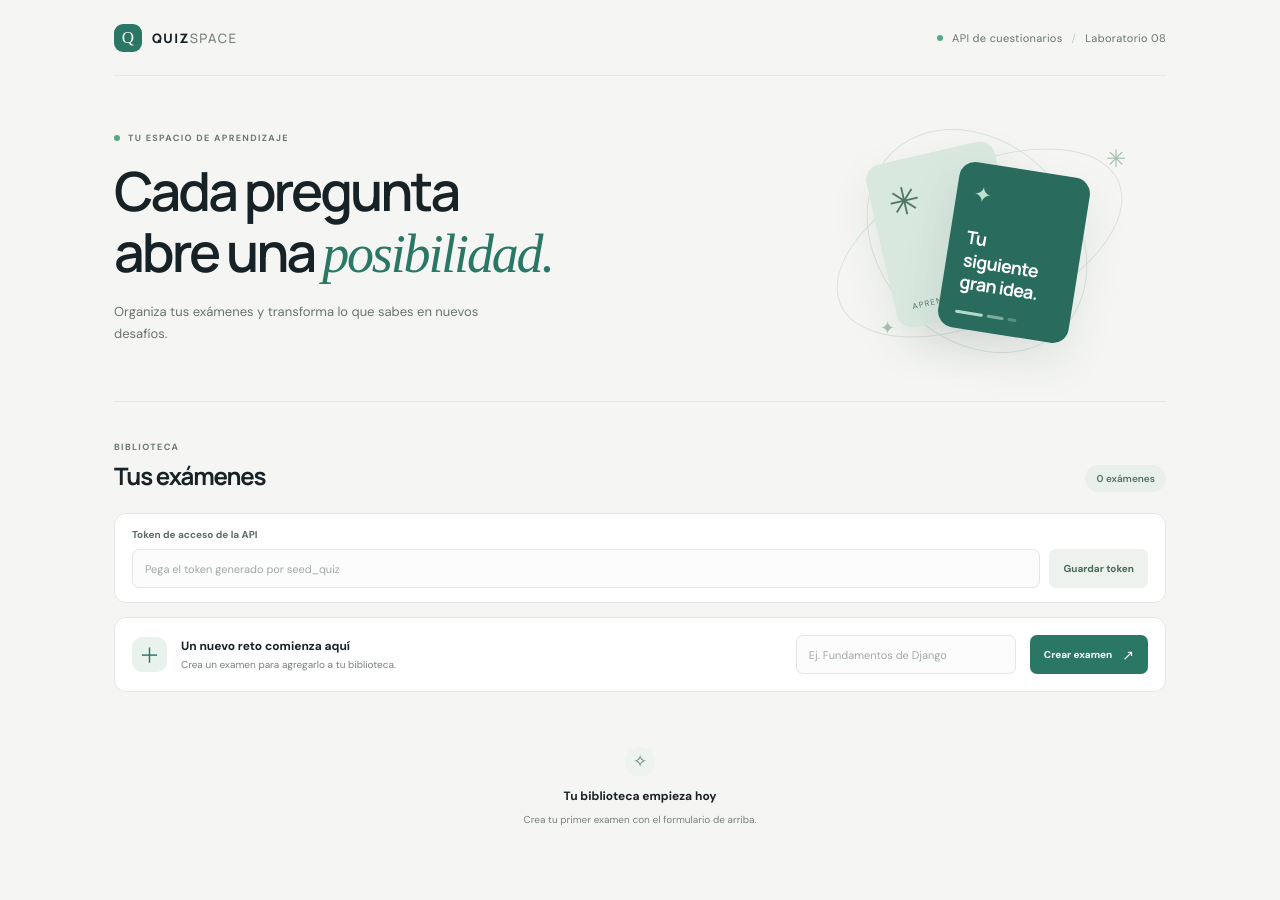
Test: ExamManager › shows the API validation message for an empty title
This screenshot has width=1280, height=900.
Expected: the text "Tu biblioteca empieza hoy" is shown, [564, 788, 716, 804]
Click the button "Crear examen ↗" at (1089, 654), box [1030, 635, 1148, 674]
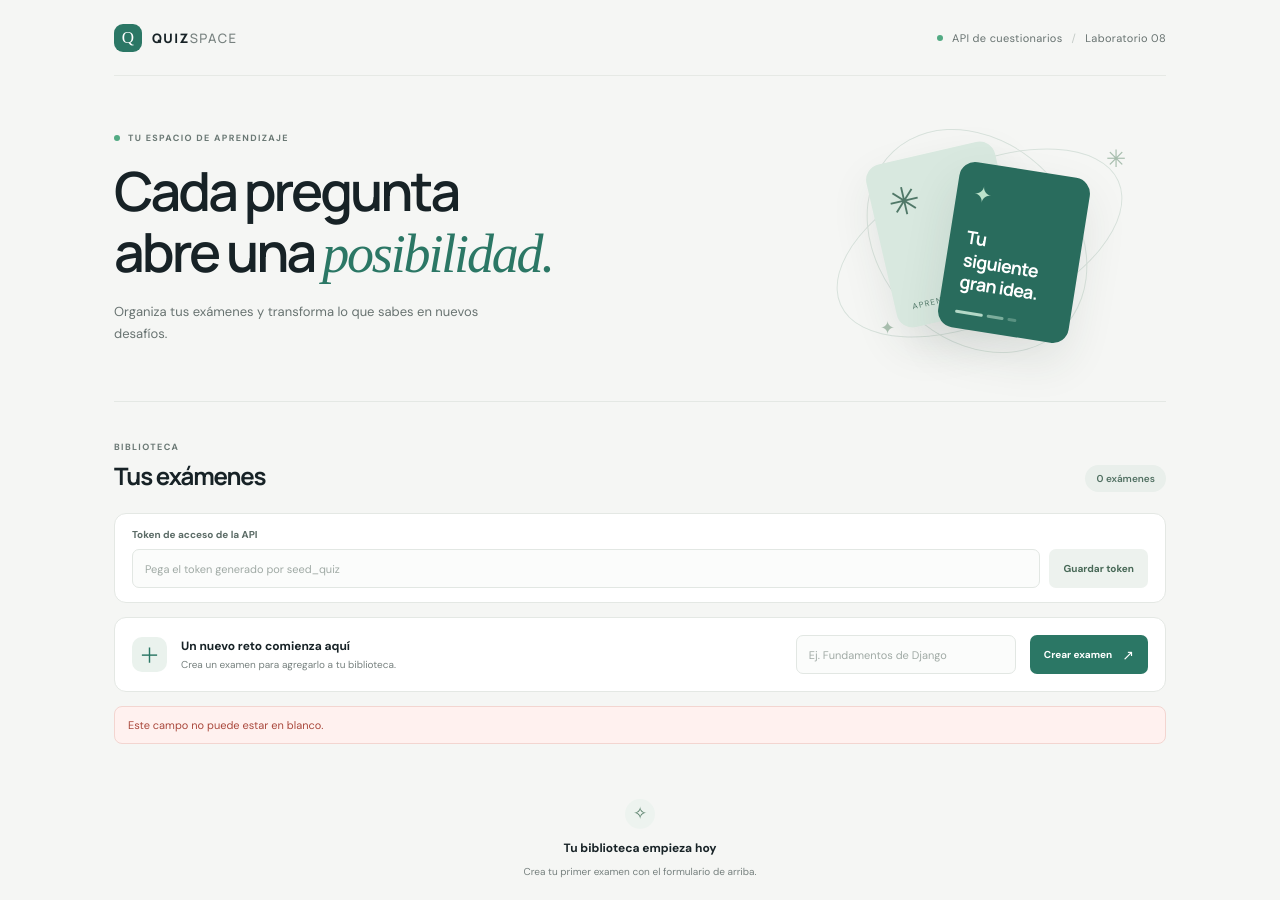
Now the message reads "Este campo no puede estar en blanco.", box [128, 718, 324, 732]
